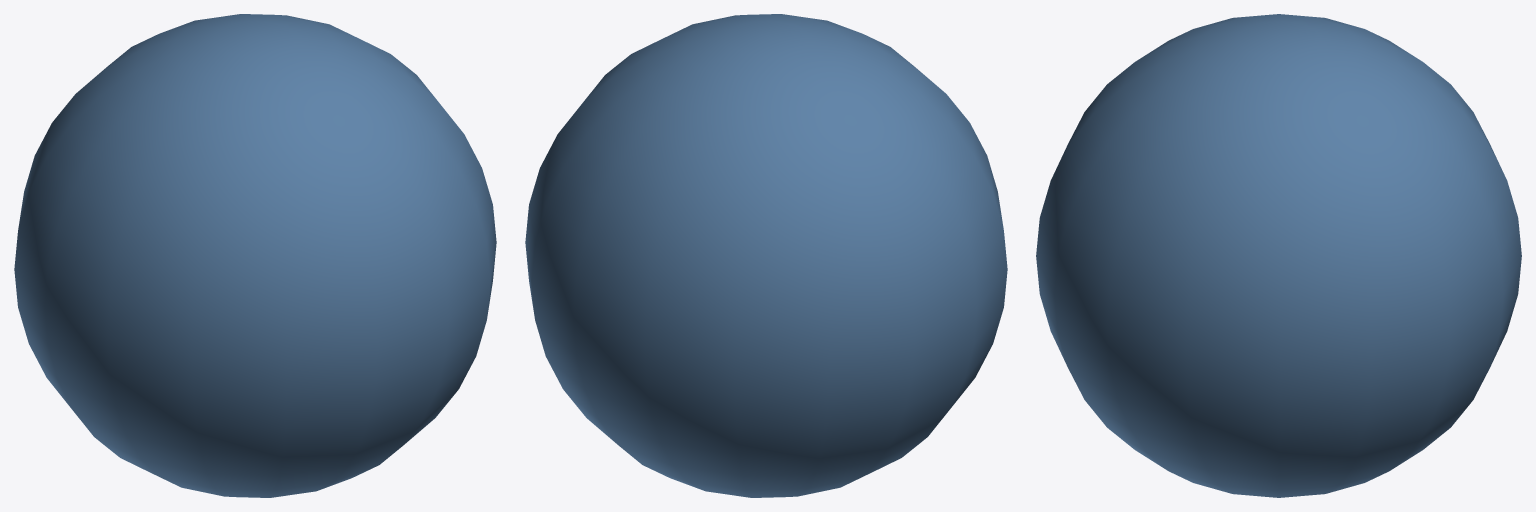
File: Gabito jolen.fbx
3 renders of one model, left to right at view 1: azimuth 30°, elevation 25°; view 2: azimuth 150°, elevation 25°; view 3: azimuth 270°, elevation 25°, orthographic.
Parts seen in each view (by area): view 1: Marble glass; view 2: Marble glass; view 3: Marble glass.
Part boxes in pixels (bbox=[...]): Marble glass: bbox=[14, 14, 496, 497]; Marble glass: bbox=[525, 14, 1007, 497]; Marble glass: bbox=[1036, 14, 1521, 497].
Size of the model in its own units: 200 by 200 by 200.
